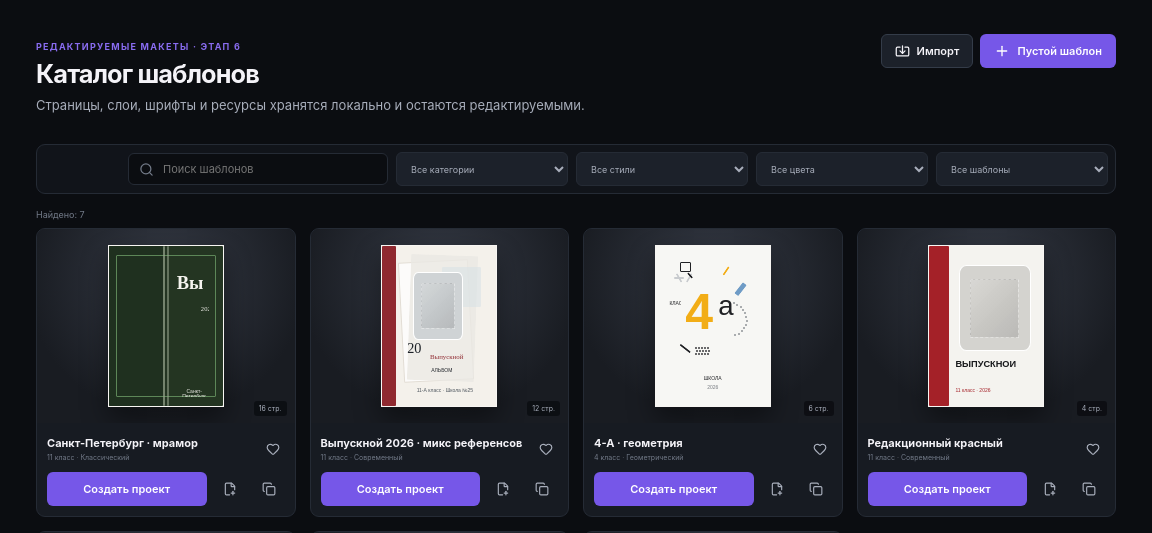
TemplatesPage › добавляет системный шаблон в избранное
The width and height of the screenshot is (1152, 533).
Click the button named "В избранное Редакционный красный".
click(1093, 449)  # box top-left (1077, 433), bottom-right (1109, 465)
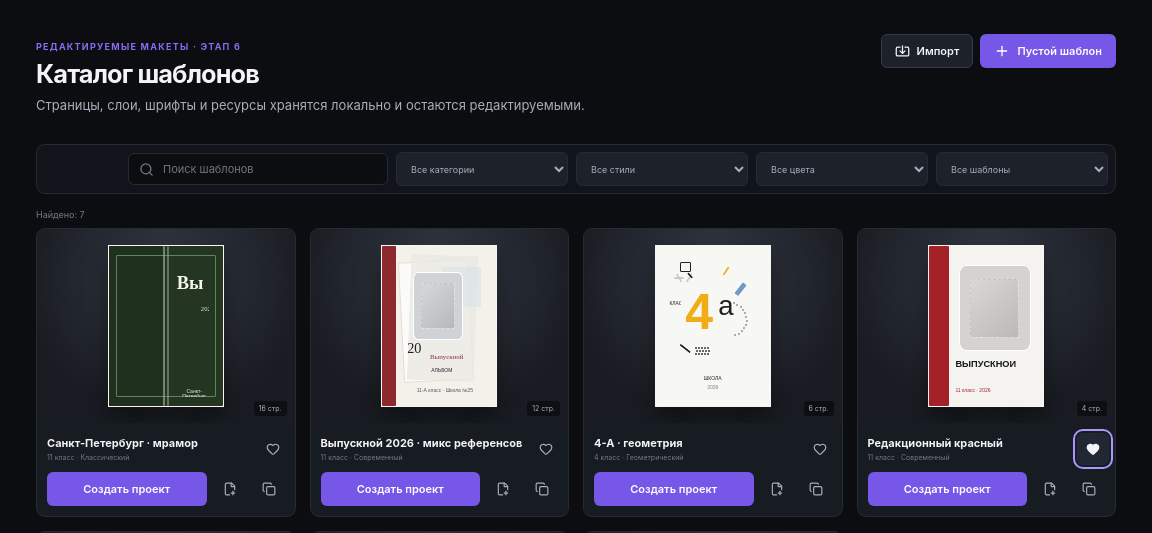
Expected: the button named "Убрать из избранного Редакционный красный" is shown, top-left (1077, 433), bottom-right (1109, 465)
